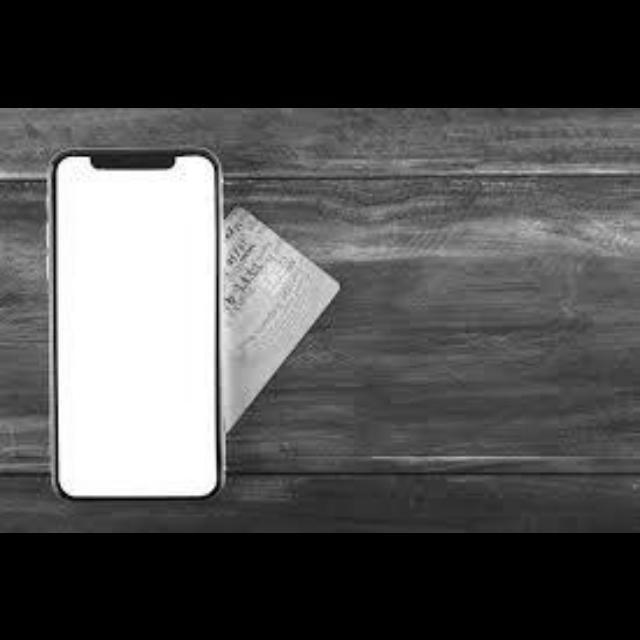fake: (54, 142, 216, 503)
